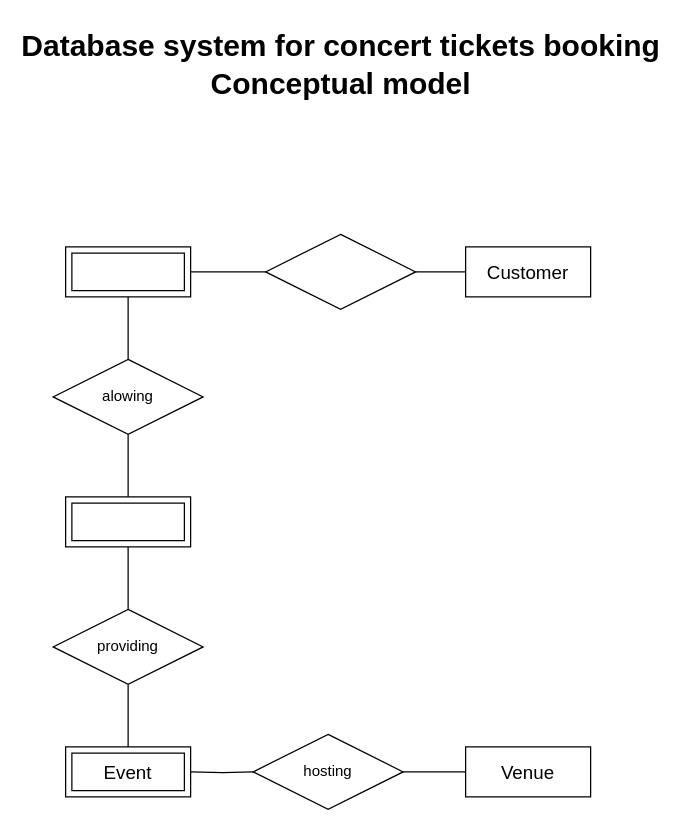
Image size: 681x831. Some labels were removed from this diagram. The shapes that lost their labels are listed below. From the top down, each one's centre as x and y in pixels, then its label:
At [127,271]: "Sale(Booking)".
At [340,271]: "buying".
At [127,521]: "Ticket".
